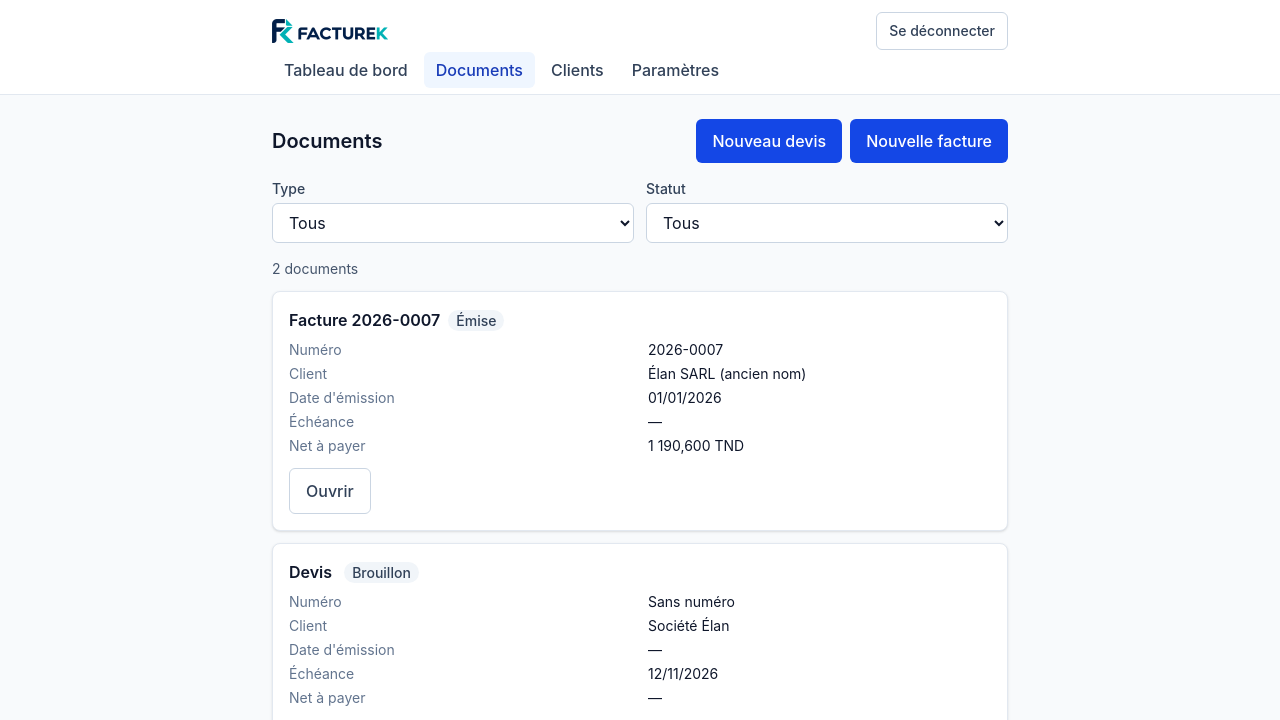
it: documents list › filters by type and by status, in the query and in the address
Expected: the text "2 documents" is shown, [272,260,358,277]
Select "Facture" in the dropdown labelled "Type": (453,223) [272,203,634,243]
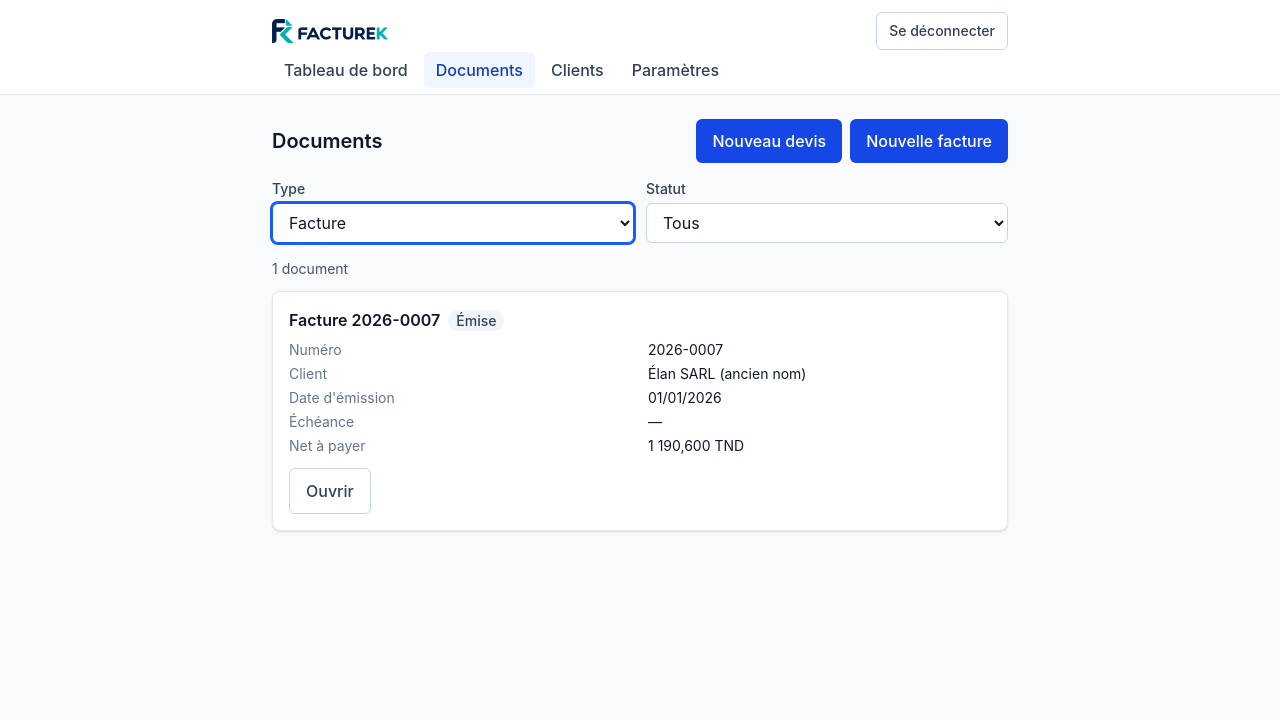
Result: the text "1 document" is shown at [272,260,348,277]
Select "Brouillon" in the dropdown labelled "Statut": (827,223) [646,203,1008,243]
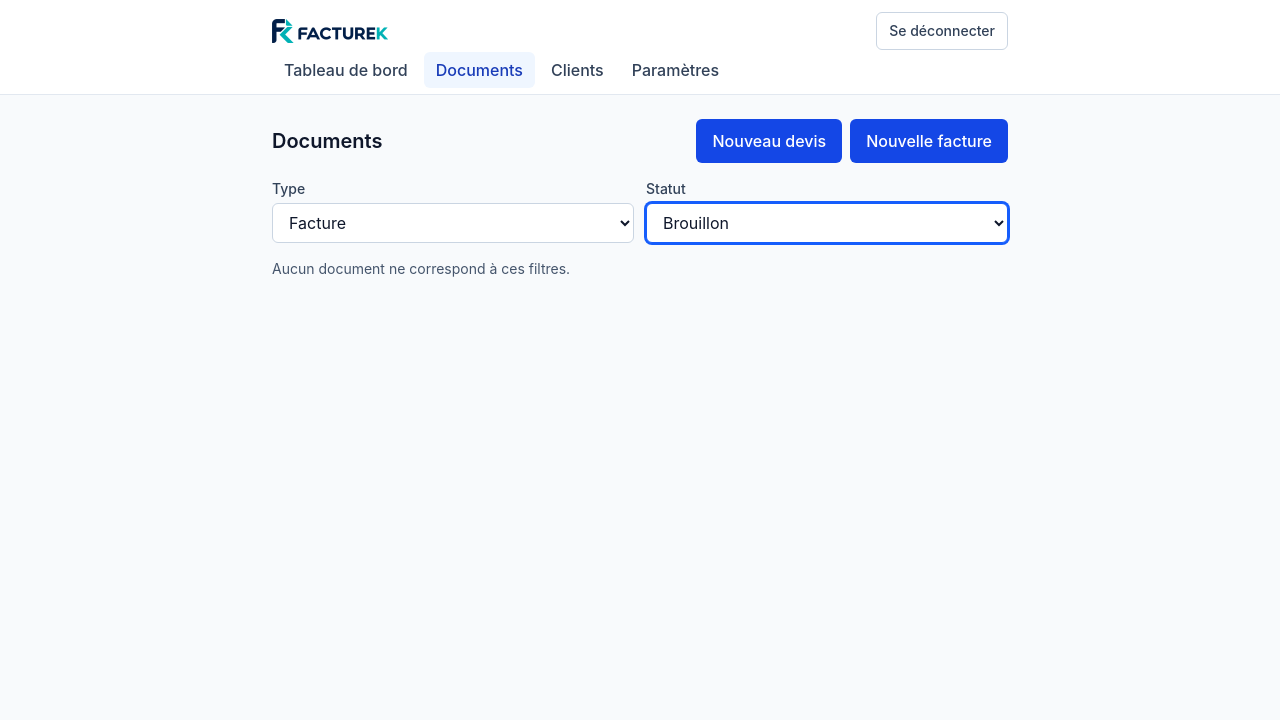
Result: the text "Aucun document ne correspond à ces filtres." is shown at [272,260,570,277]
Select "Tous" in the dropdown labelled "Type": (453,223) [272,203,634,243]
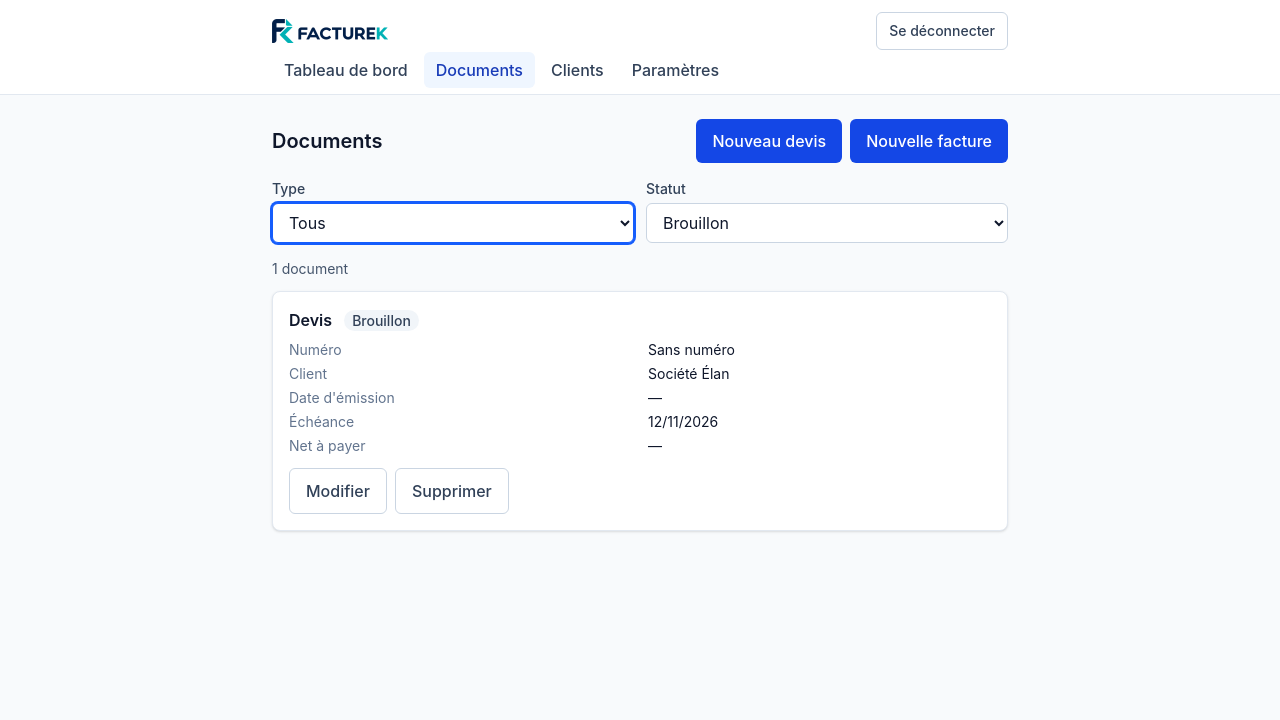
Result: the text "1 document" is shown at [272,260,348,277]
